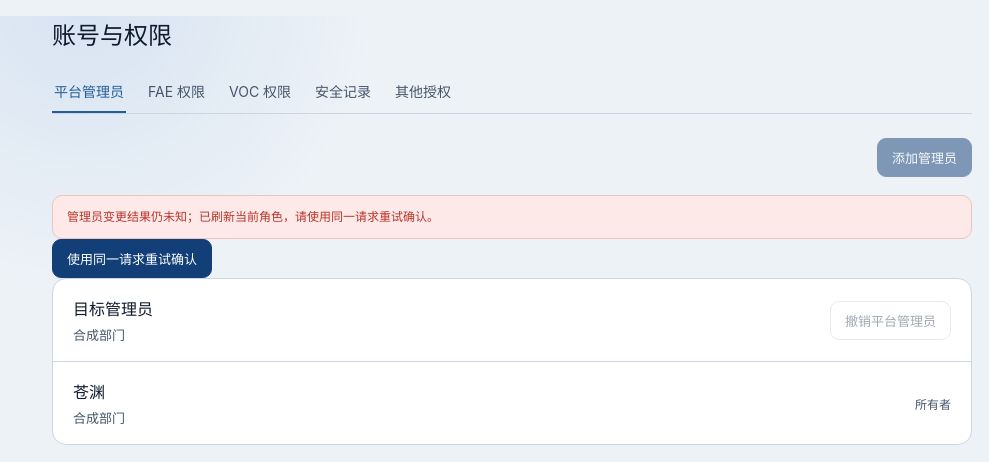
IdentityManagementPage › fails closed on a mismatched request ID echoed during restored replay
Click the button "使用同一请求重试确认".
click(132, 259)  # box [52,239,212,278]
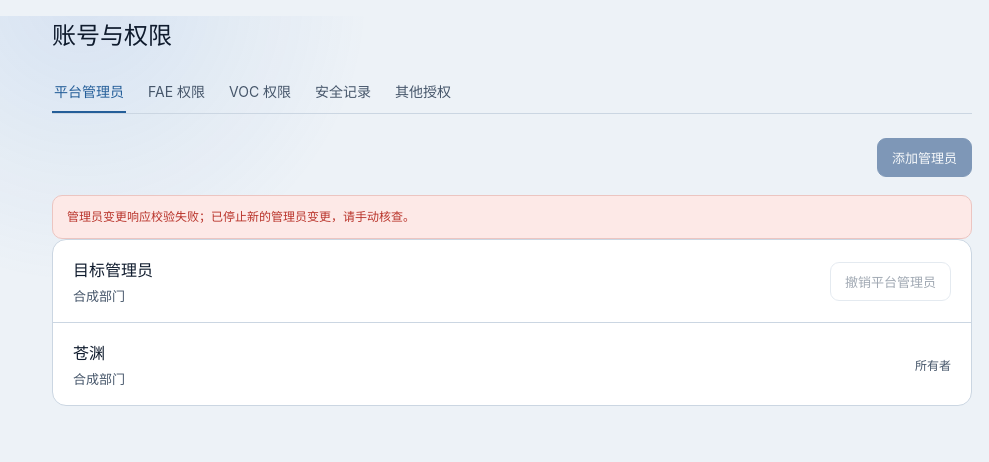
Expected: the text "管理员变更响应校验失败；已停止新的管理员变更，请手动核查。" is shown, [52,195,972,239]
Expected: the text "使用同一请求重试确认" is gone
